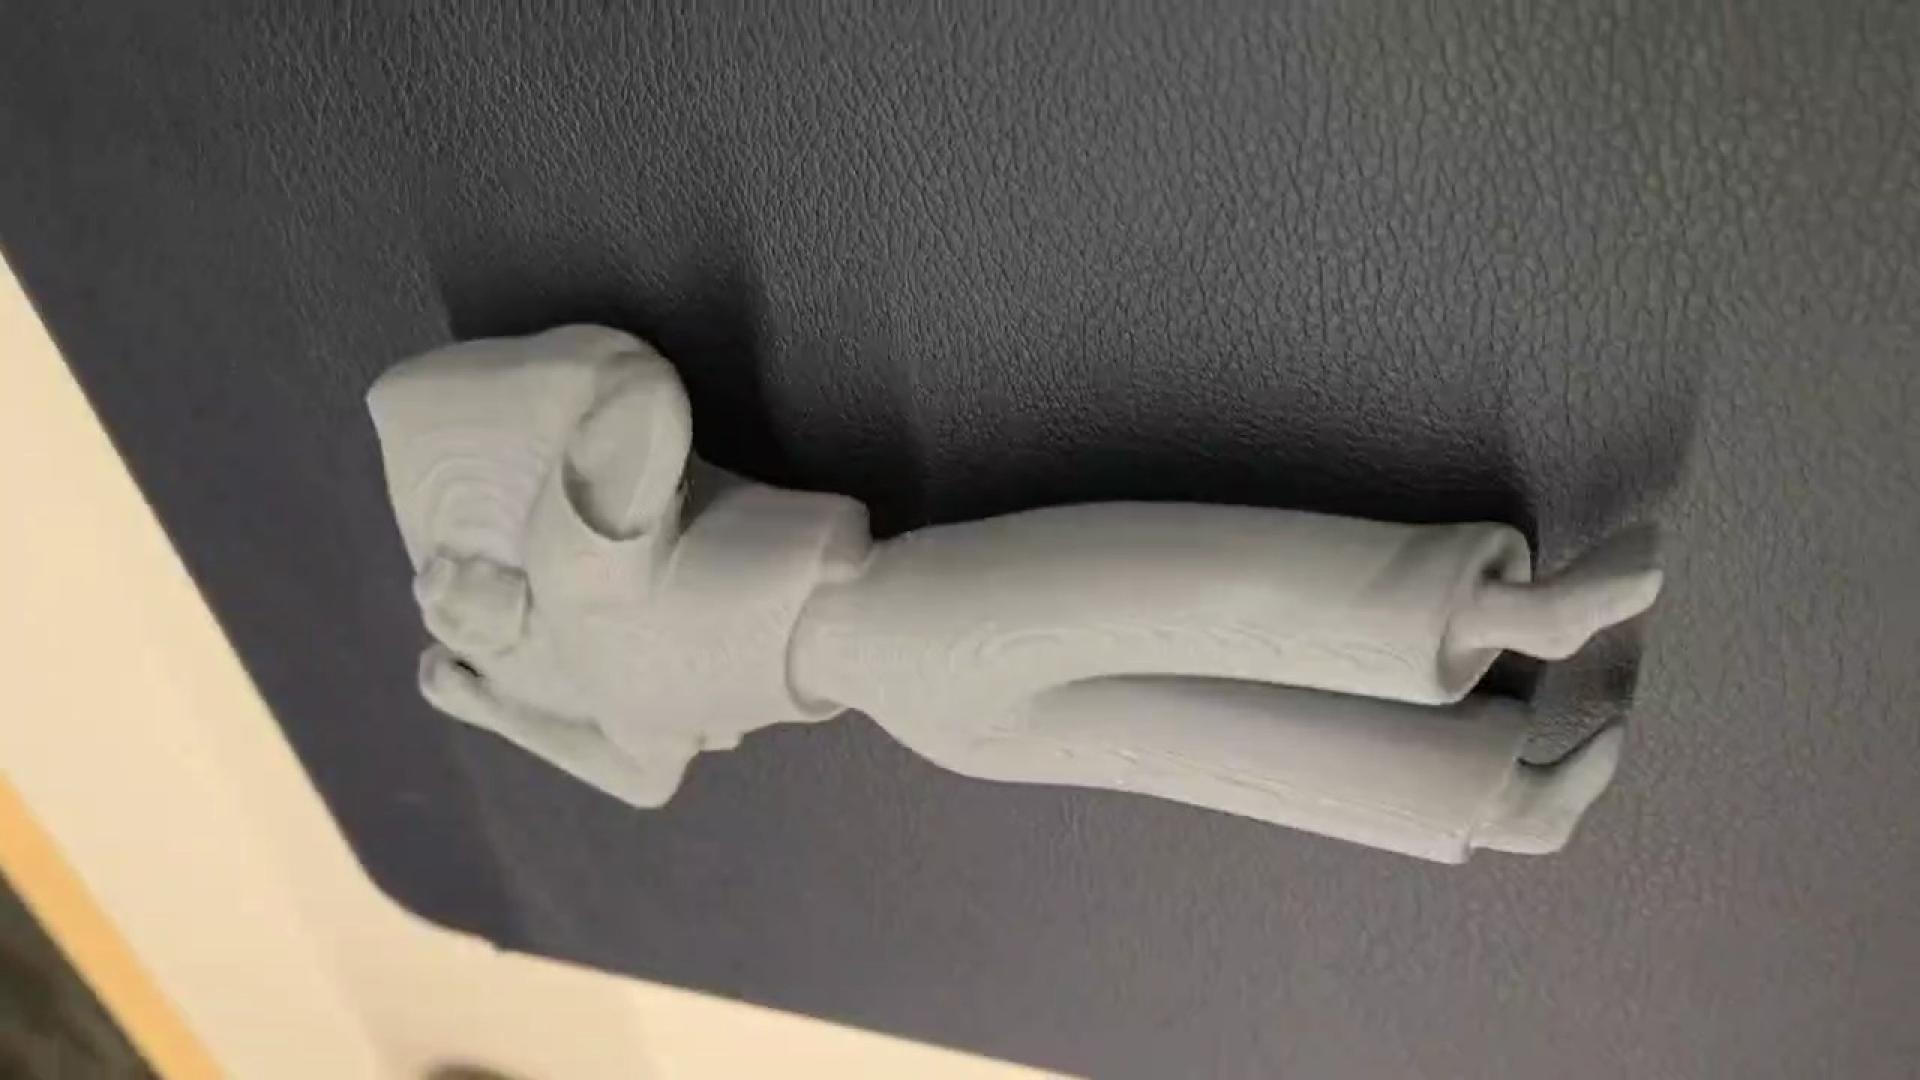Bad-style: (356, 315, 1676, 872)
